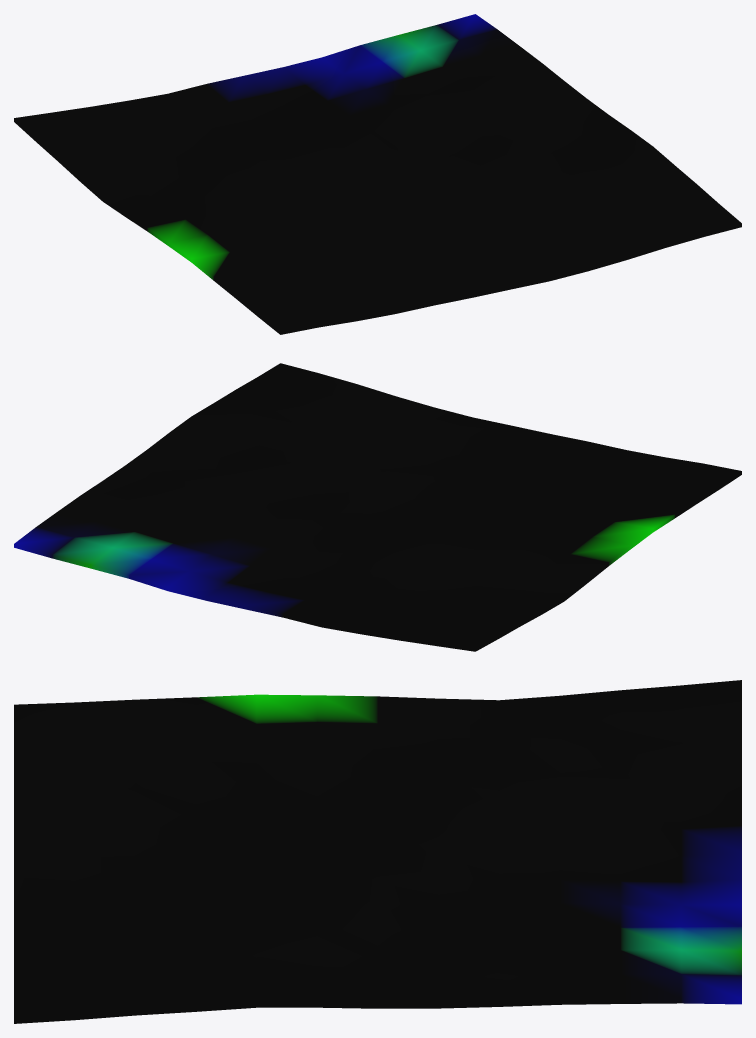
The model's file is coast_12_3.glb.
The picture shows the model from 3 angles, top to bottom: view 1: azimuth 30°, elevation 25°; view 2: azimuth 150°, elevation 25°; view 3: azimuth 270°, elevation 25°; orthographic projection. The views are drawn at different scales.
Visible parts, largest first — view 1: terrain; view 2: terrain; view 3: terrain.
Part boxes in pixels (x1,y1,x2,y2): terrain: (14, 14, 741, 334); terrain: (14, 363, 741, 651); terrain: (14, 680, 741, 1023).
Size of the model in its own units: 192 by 13.47 by 192.
